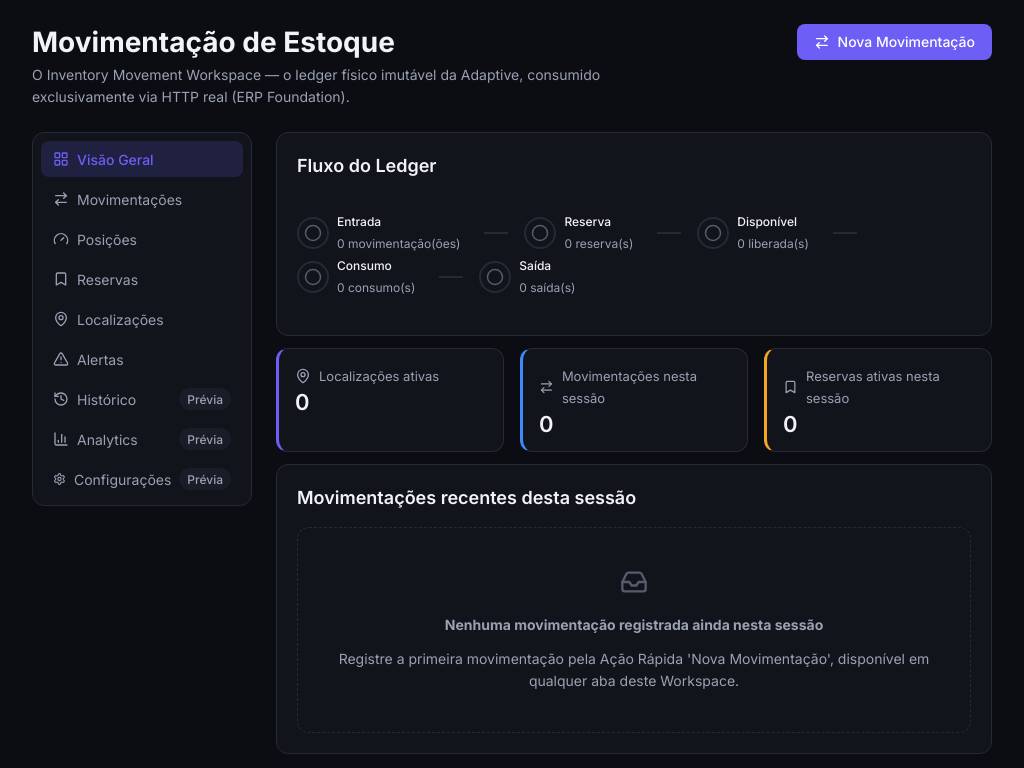
Test case: InventoryMovementPage — Inventory Movement Workspace por seções (IMP-405) › LEDGER: nenhuma ação de editar/excluir aparece em nenhum lugar da seção Movimentações
Expected: the button "Visão Geral" is shown, [41, 141, 243, 177]
Click the button "Nova Movimentação" at point(894, 42), box [796, 24, 992, 60]
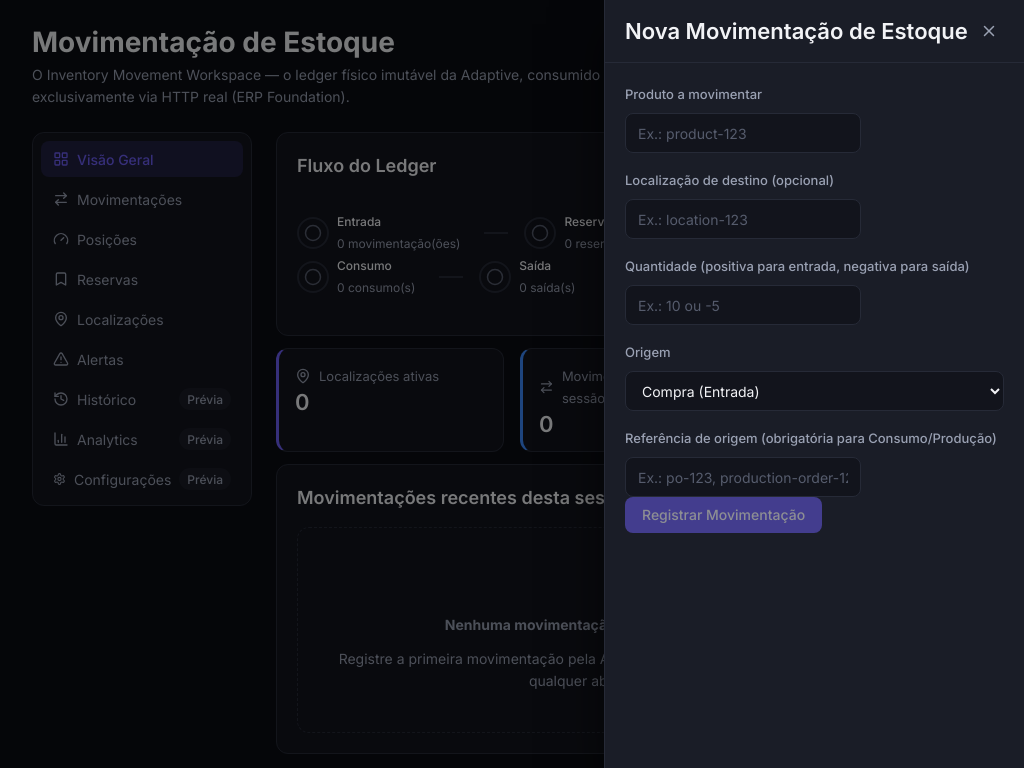
Type "product-1" into the field labelled "Produto a movimentar" at point(743, 133), box [625, 113, 861, 153]
Type "10" into the number field labelled "Quantidade (positiva para entrada, negativa para saída)" at point(743, 305), box [625, 285, 861, 325]
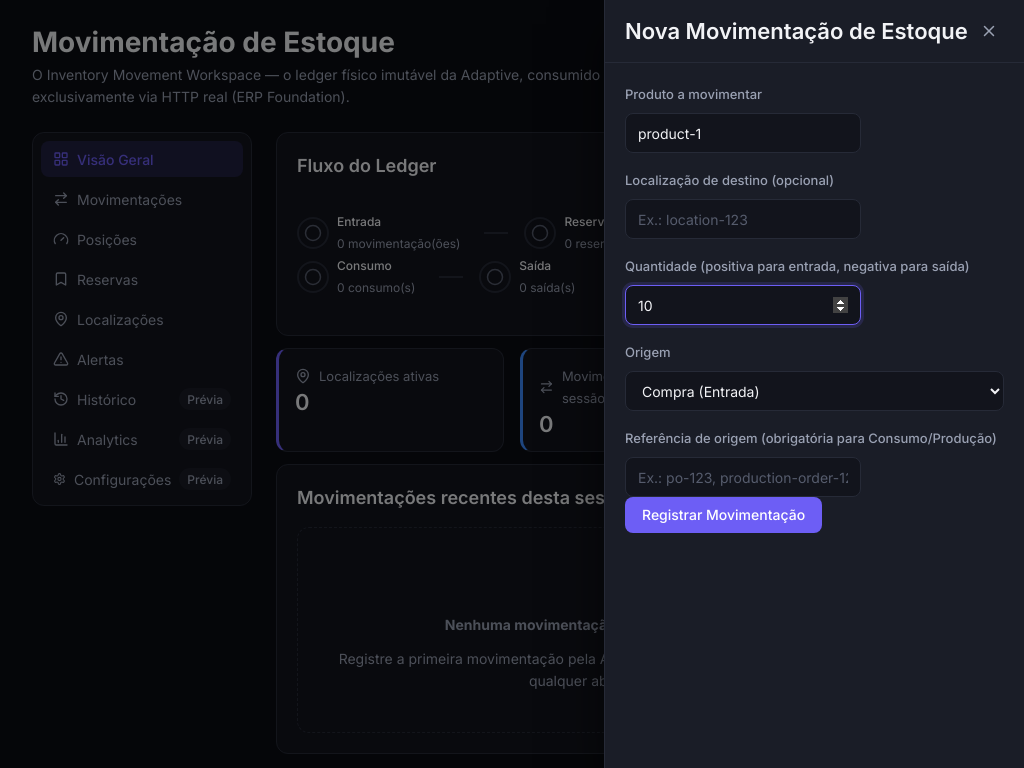
Click the button "Registrar Movimentação" at point(724, 515), box [625, 497, 822, 533]
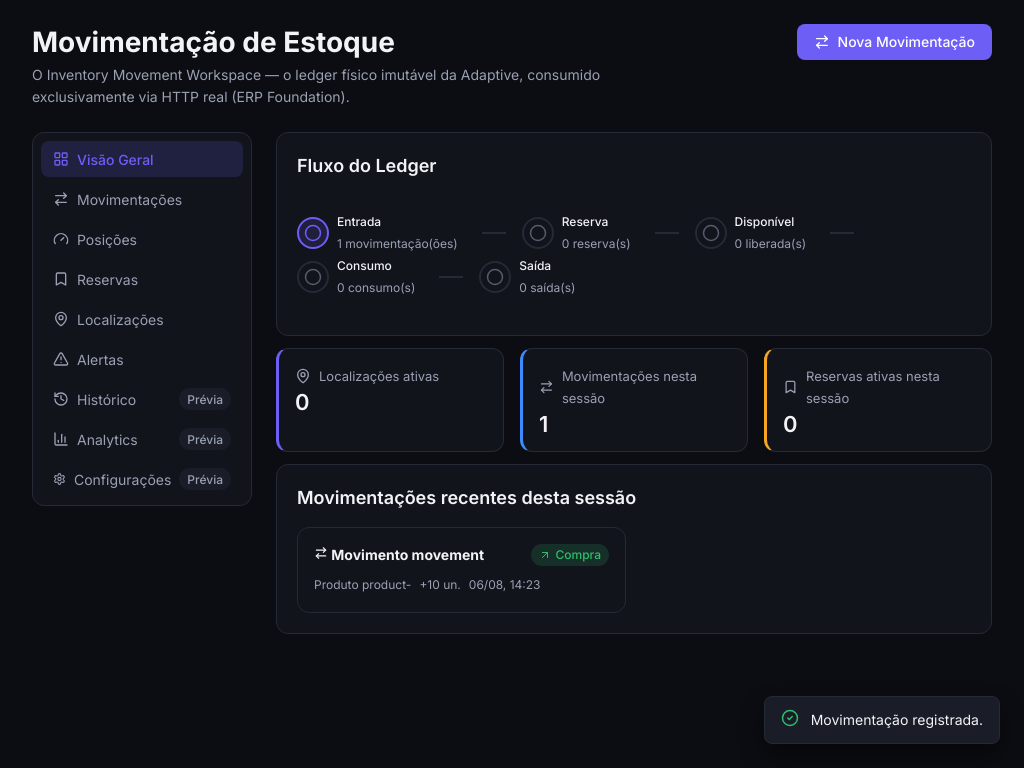
Now the heading "Nova Movimentação de Estoque" is gone
Click the button "Movimentações" at point(142, 199), box [41, 181, 243, 217]
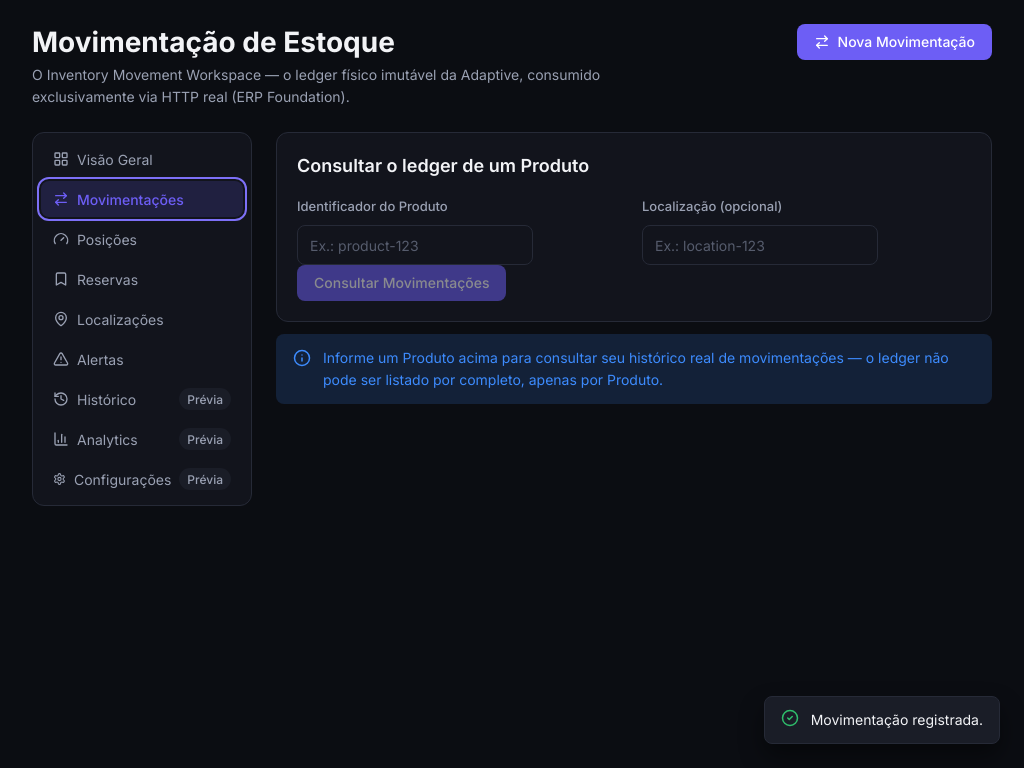
Type "product-1" into the field labelled "Identificador do Produto" at point(415, 245), box [297, 225, 533, 265]
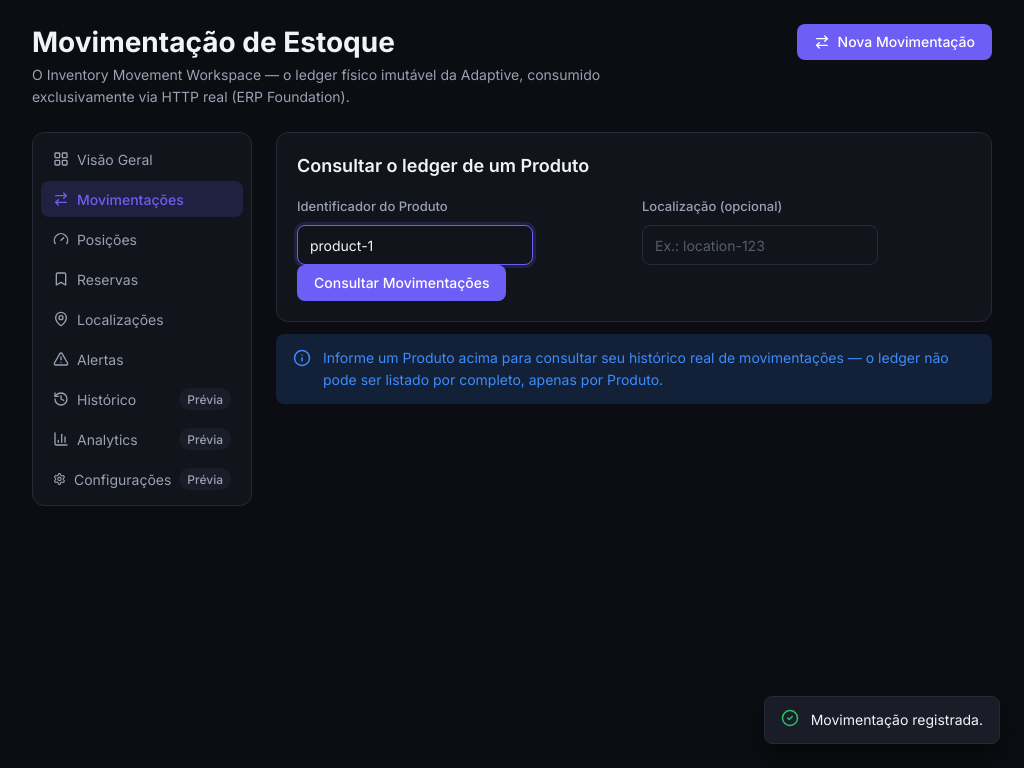
Click the button "Consultar Movimentações" at point(402, 283), box [297, 265, 506, 301]
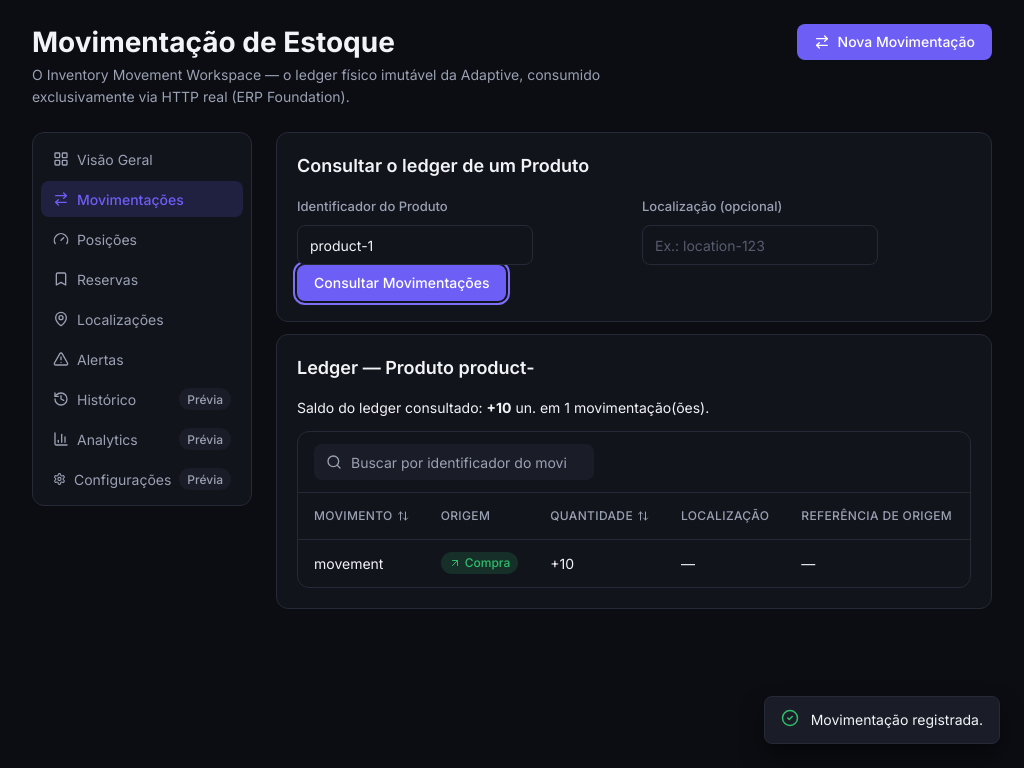
Now the text "movement" is shown, box [298, 540, 425, 587]
